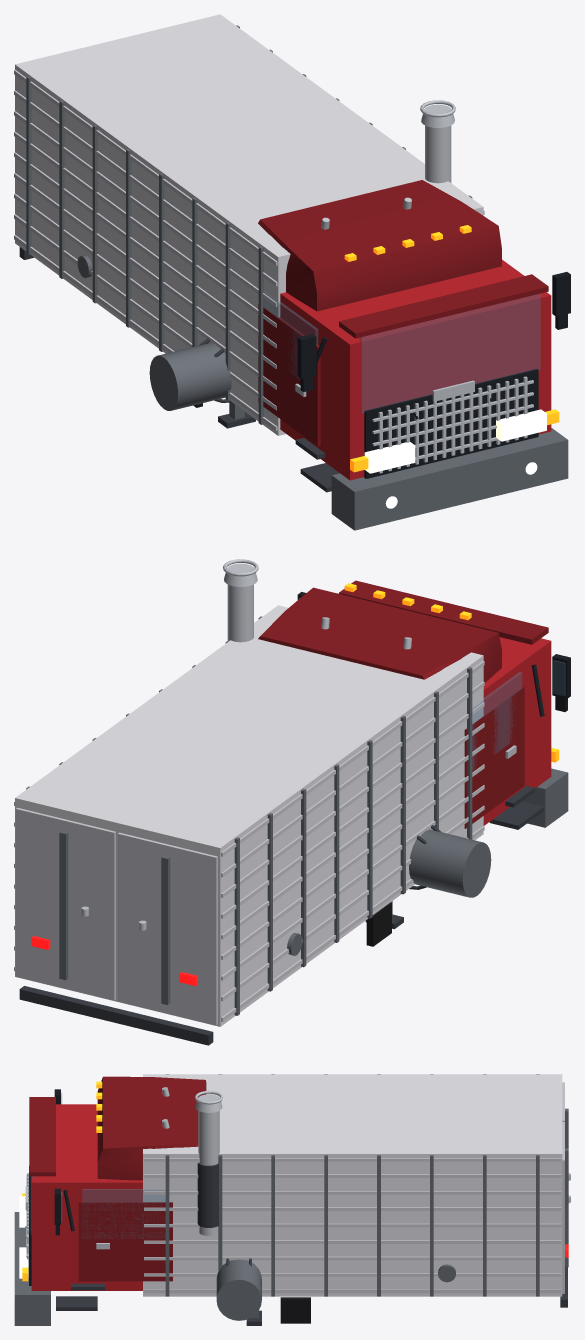
Rendered from semi-truck.glb.
3 renders of one model, top to bottom at view 1: azimuth 30°, elevation 25°; view 2: azimuth 150°, elevation 25°; view 3: azimuth 270°, elevation 25°, orthographic. The views are drawn at different scales.
Parts seen in each view (by area): view 1: haulmaster-900; view 2: haulmaster-900; view 3: haulmaster-900.
Part boxes in pixels (bbox=[...]): haulmaster-900: bbox=[14, 14, 570, 530]; haulmaster-900: bbox=[14, 559, 570, 1045]; haulmaster-900: bbox=[14, 1074, 570, 1325].
Bounding box in the file's own units: 3.81 × 3.41 × 7.37.
